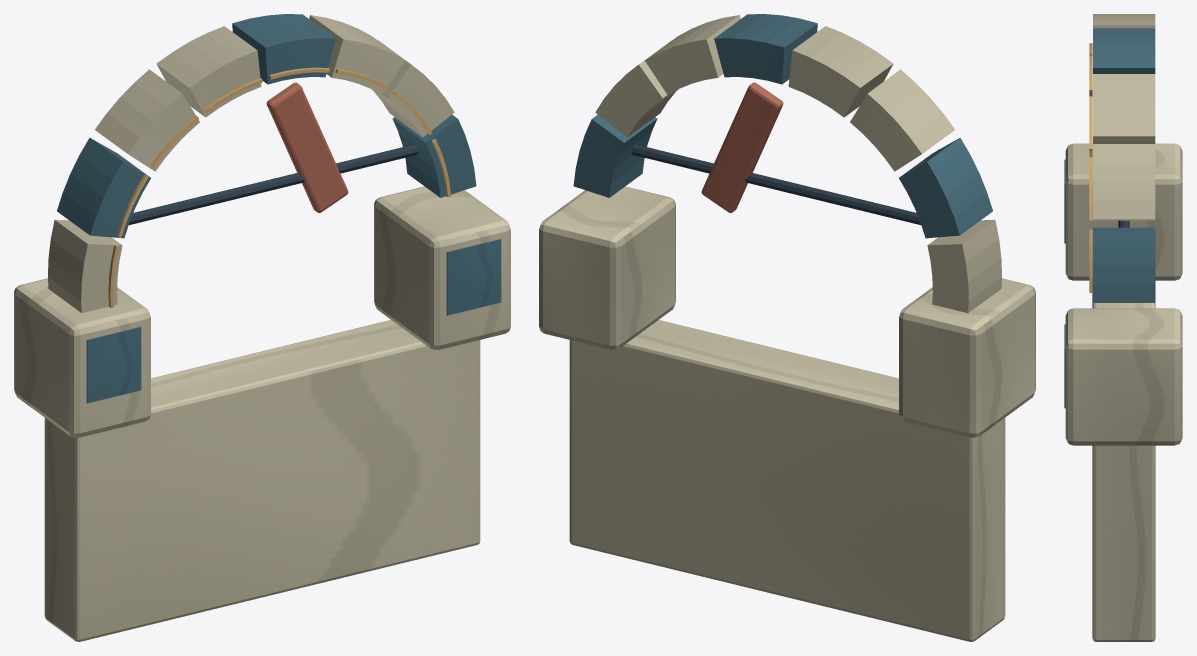
File: landmark.glb
3 views of the same model, side by side, from view 1: azimuth 30°, elevation 25°; view 2: azimuth 150°, elevation 25°; view 3: azimuth 270°, elevation 25° (orthographic). The views are drawn at different scales.
Parts seen in each view (by area): view 1: landmark_solid; view 2: landmark_solid; view 3: landmark_solid.
Part boxes in pixels (box(x1,y1,x2,y2)): landmark_solid: box(14, 14, 510, 641); landmark_solid: box(539, 14, 1035, 641); landmark_solid: box(1064, 14, 1182, 641).
Size of the model in its own units: 4.9 by 5.85 by 1.21.
Materials: 5 (2 with a texture image).
